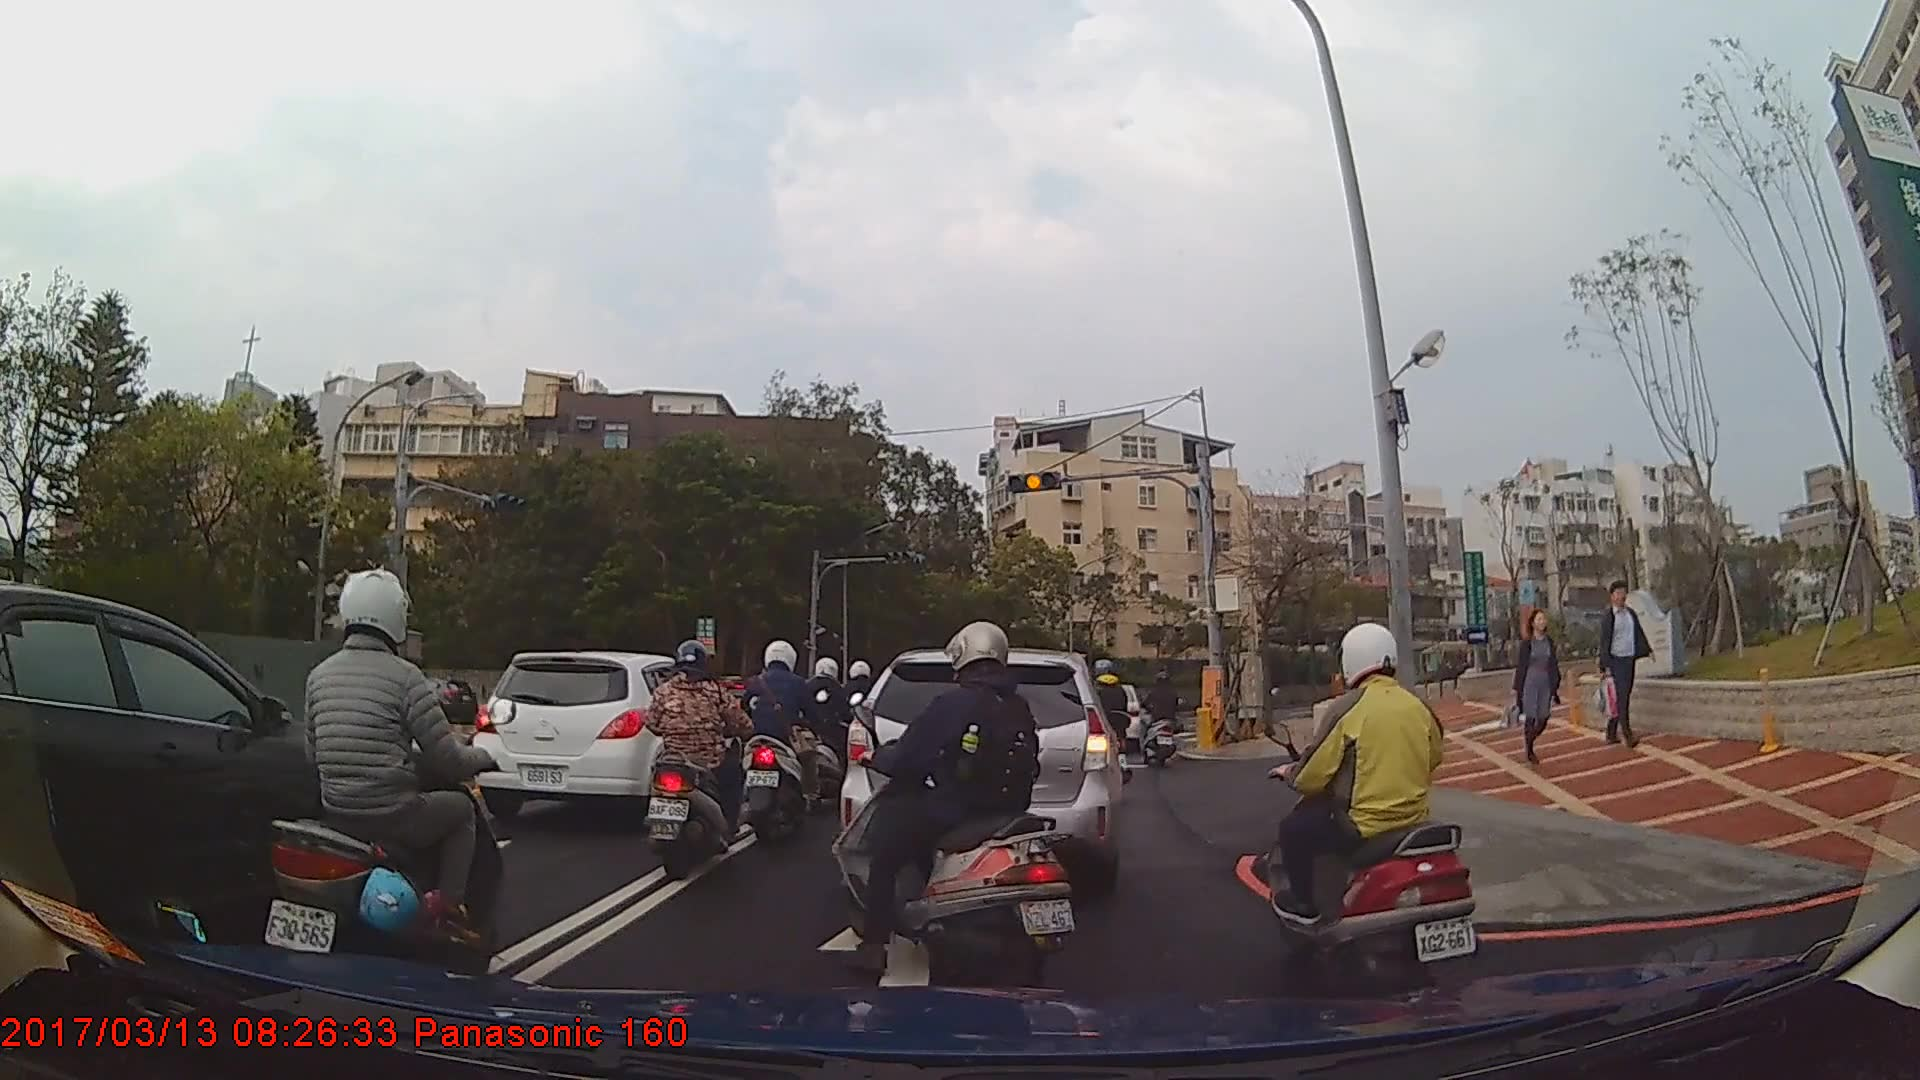pedestrian: (1499, 608, 1566, 773), (1591, 579, 1658, 745)
rider: (260, 567, 509, 1007), (829, 620, 1081, 994), (1267, 622, 1485, 1008), (642, 640, 752, 883), (732, 635, 829, 843), (1080, 657, 1136, 795), (804, 657, 859, 798), (1142, 673, 1182, 761)
vehicle: (0, 579, 397, 955), (841, 644, 1119, 887), (471, 649, 742, 824), (391, 676, 480, 724)
